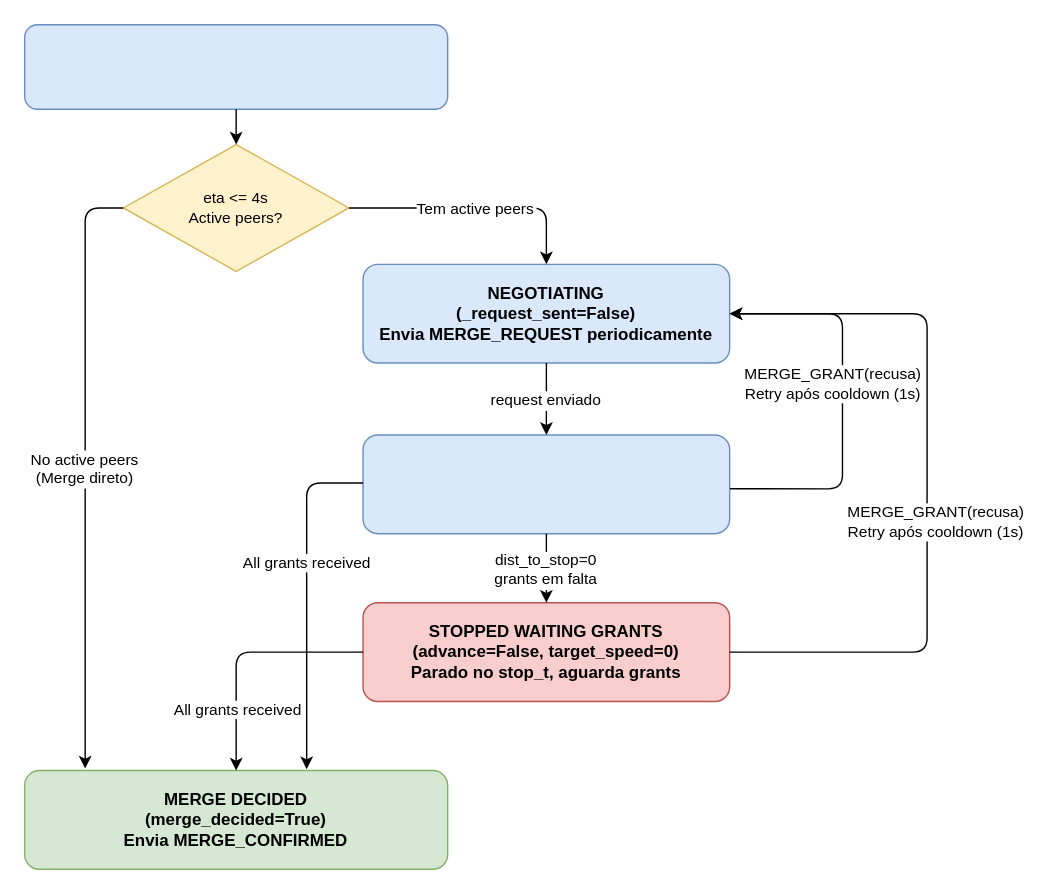
The diagram is 1048 pixels wide and 894 high, and some of its shapes have lost their labels. The centre of each missing label's shape, as x and y in pixels:
CRUISING (merge_decided=False, eta > 4s): (x=235, y=66)
MOVING AND WAITING GRANTS (advance=True) Aguarda grants, continua a avançar: (x=546, y=484)
